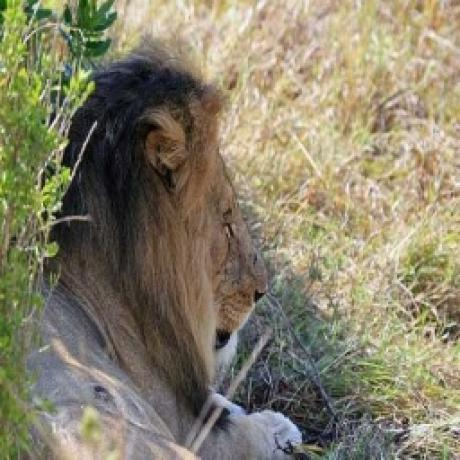Lion: (26, 39, 288, 460)
